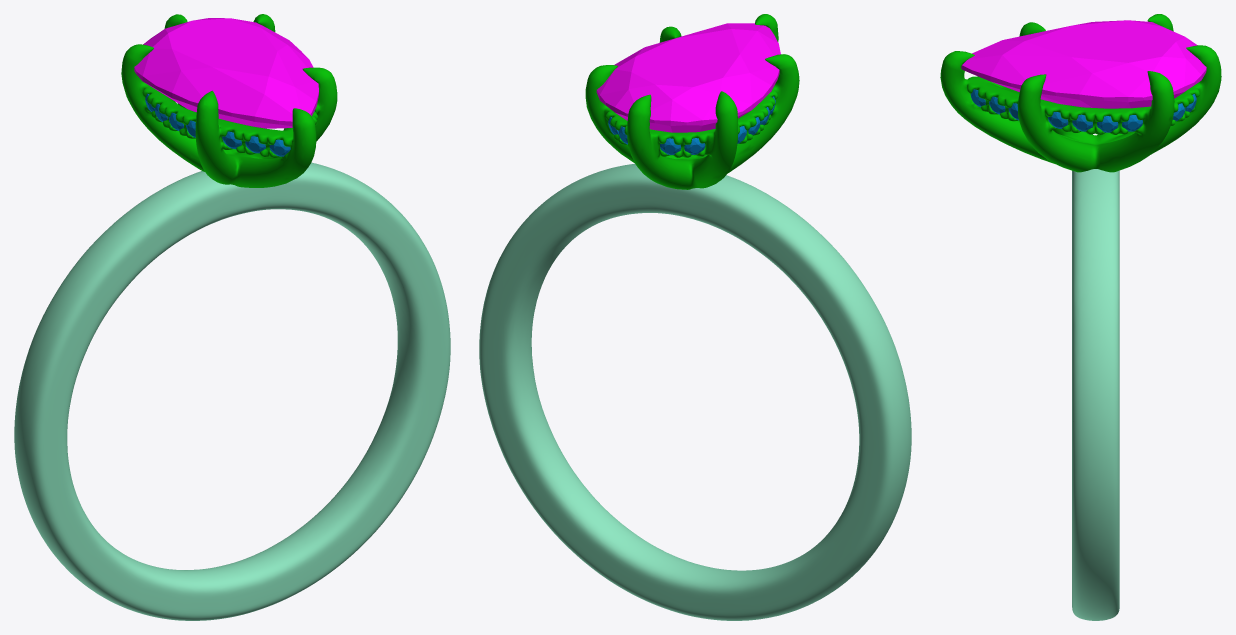
The model's file is BE1D327_PE_200ct_RENDER.glb.
3 views of the same model, side by side, from view 1: azimuth 30°, elevation 25°; view 2: azimuth 150°, elevation 25°; view 3: azimuth 270°, elevation 25° (orthographic).
Visible parts, largest first — view 1: Metal 01, CS_Diamond_Pear, Metal 02; view 2: Metal 01, CS_Diamond_Pear, Metal 02; view 3: Metal 01, Metal 02, CS_Diamond_Pear.
Boxes of the visible parts, <box> form: Metal 01: <box>14,162,450,620</box>; CS_Diamond_Pear: <box>134,18,318,128</box>; Metal 02: <box>121,14,337,187</box>; Metal 01: <box>479,163,911,620</box>; CS_Diamond_Pear: <box>596,23,780,132</box>; Metal 02: <box>585,14,799,189</box>; Metal 01: <box>1072,169,1119,620</box>; Metal 02: <box>940,14,1221,172</box>; CS_Diamond_Pear: <box>961,20,1206,108</box>.
Bounding box in the file's own units: 20.5 × 25.93 × 11.86.
